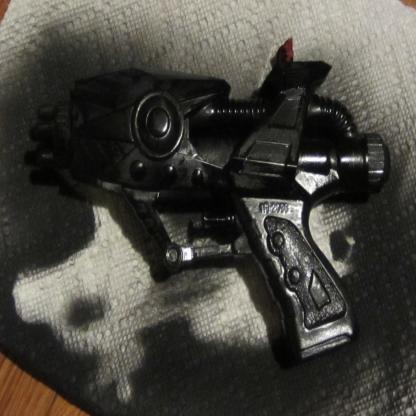Handgun: (28, 36, 391, 365)
